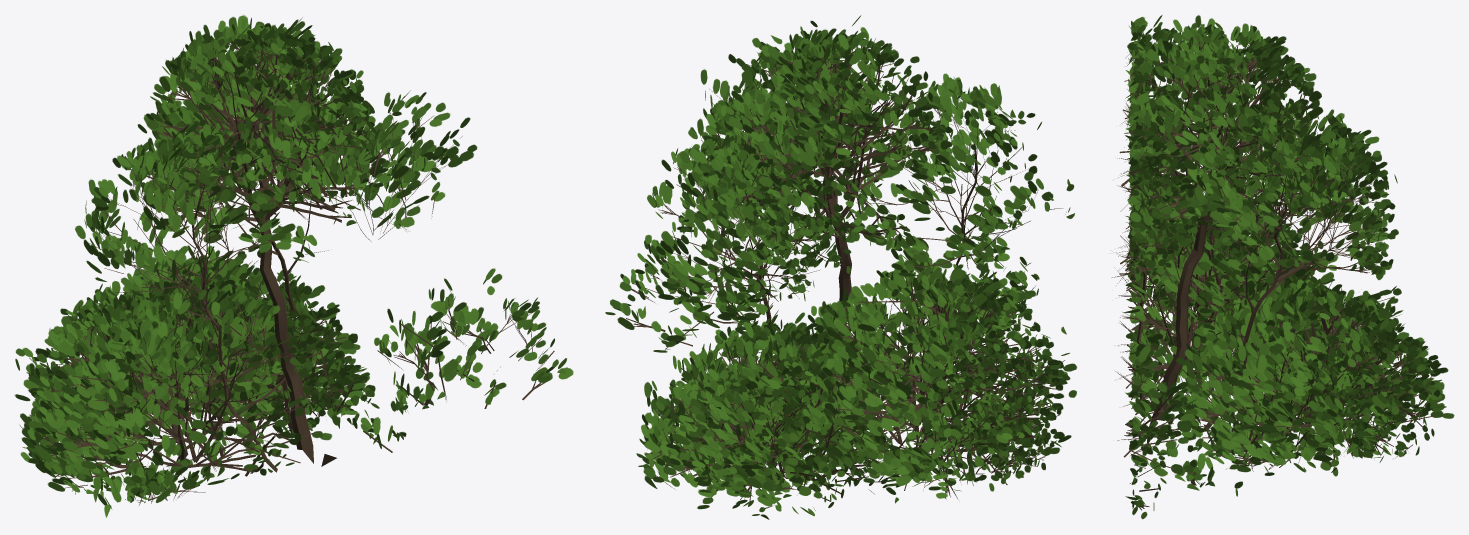
3 renders of one model, left to right at view 1: azimuth 30°, elevation 25°; view 2: azimuth 150°, elevation 25°; view 3: azimuth 270°, elevation 25°, orthographic. The views are drawn at different scales.
Visible parts, largest first — view 1: oak 01.001_trunk_Mat.001_0.442; view 2: oak 01.001_trunk_Mat.001_0.442; view 3: oak 01.001_trunk_Mat.001_0.442.
Boxes of the visible parts, box(x1,y1,x2,y2) form: oak 01.001_trunk_Mat.001_0.442: box(14, 15, 573, 517); oak 01.001_trunk_Mat.001_0.442: box(605, 15, 1077, 519); oak 01.001_trunk_Mat.001_0.442: box(1112, 15, 1454, 519).
Bounding box in the file's own units: 5.5 × 4.59 × 3.48.
Materials: 2 (1 with a texture image).
